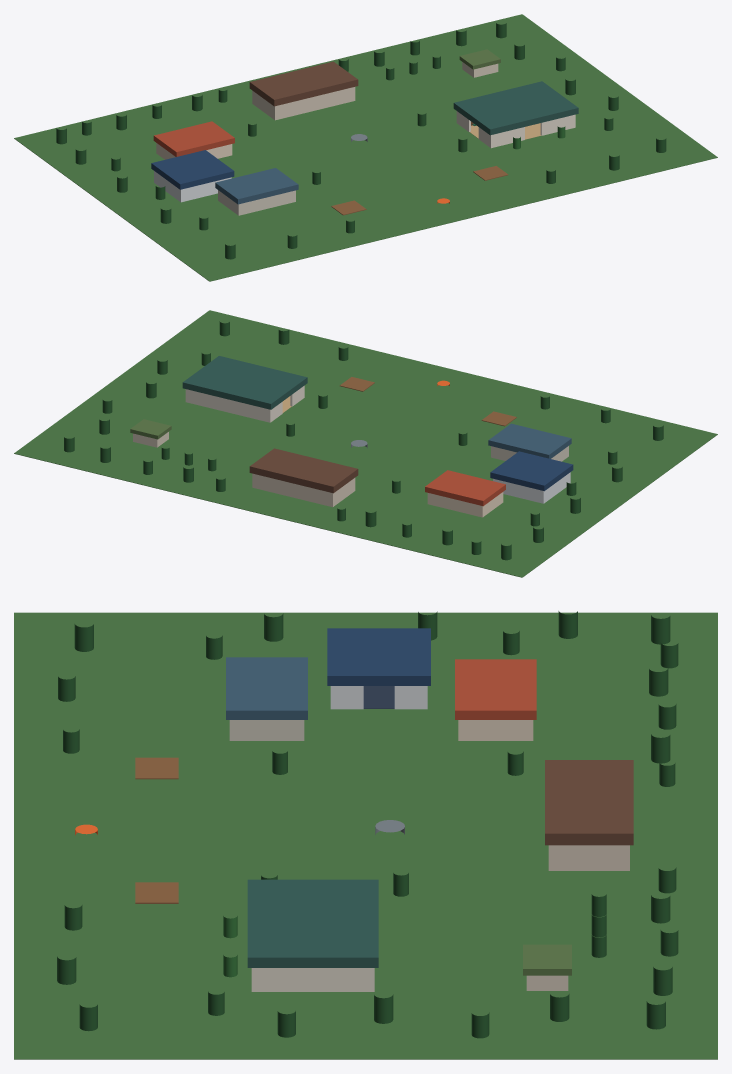
Rendered from world.glb.
3 views of the same model, one above another, from view 1: azimuth 30°, elevation 25°; view 2: azimuth 150°, elevation 25°; view 3: azimuth 270°, elevation 25° (orthographic). The views are drawn at different scales.
Parts seen in each view (by area): view 1: VillageGround_Visual, TNGOffice_Roof_Visual, AssemblyHall_Roof_Visual, TrafficGameCenter_Roof_Visual, ToolWorkshop_Roof_Visual, CoopBakery_Roof_Visual, AssemblyHall_Visual, ToolWorkshop_Visual, GardenShed_Roof_Visual, TrafficGameCenter_WallSouth_Visual, TNGOffice_WallSouthEast_Visual, TNGOffice_WallSouthWest_Visual; view 2: VillageGround_Visual, TNGOffice_Roof_Visual, AssemblyHall_Roof_Visual, TrafficGameCenter_Roof_Visual, ToolWorkshop_Roof_Visual, CoopBakery_Roof_Visual, AssemblyHall_Visual, TNGOffice_WallNorth_Visual, CoopBakery_Visual, TrafficGameCenter_WallNorth_Visual, GardenShed_Roof_Visual; view 3: VillageGround_Visual, TNGOffice_Roof_Visual, AssemblyHall_Roof_Visual, TrafficGameCenter_Roof_Visual, ToolWorkshop_Roof_Visual, CoopBakery_Roof_Visual, TNGOffice_WallEast_Visual, AssemblyHall_Visual, CoopBakery_Visual, ToolWorkshop_Visual, GardenShed_Roof_Visual, bridgeWest_Visual (+3 smaller).
Boxes of the visible parts, x1,y1,x2,y2 form: VillageGround_Visual: (14,14,717,281); TNGOffice_Roof_Visual: (453,81,578,135); AssemblyHall_Roof_Visual: (249,61,358,106); TrafficGameCenter_Roof_Visual: (151,150,234,189); ToolWorkshop_Roof_Visual: (215,168,298,204); CoopBakery_Roof_Visual: (153,121,234,156); AssemblyHall_Visual: (252,87,355,120); ToolWorkshop_Visual: (218,190,295,215); GardenShed_Roof_Visual: (459,49,500,69); TrafficGameCenter_WallSouth_Visual: (179,177,231,202); TNGOffice_WallSouthEast_Visual: (540,114,575,135); TNGOffice_WallSouthWest_Visual: (489,127,524,148); VillageGround_Visual: (14,310,717,577); TNGOffice_Roof_Visual: (182,356,307,409); AssemblyHall_Roof_Visual: (249,448,358,493); TrafficGameCenter_Roof_Visual: (490,451,573,491); ToolWorkshop_Roof_Visual: (488,423,571,458); CoopBakery_Roof_Visual: (425,470,505,506); AssemblyHall_Visual: (252,473,355,507); TNGOffice_WallNorth_Visual: (185,389,271,422); CoopBakery_Visual: (427,492,503,517); TrafficGameCenter_WallNorth_Visual: (493,478,544,503); GardenShed_Roof_Visual: (130,419,171,439); VillageGround_Visual: (14,612,717,1059); TNGOffice_Roof_Visual: (247,879,378,967); AssemblyHall_Roof_Visual: (545,760,633,845); TrafficGameCenter_Roof_Visual: (327,628,430,685); ToolWorkshop_Roof_Visual: (226,657,307,719); CoopBakery_Roof_Visual: (455,659,536,719); TNGOffice_WallEast_Visual: (256,968,370,991); AssemblyHall_Visual: (548,845,629,870); CoopBakery_Visual: (458,720,533,740); ToolWorkshop_Visual: (229,720,304,740); GardenShed_Roof_Visual: (523,944,571,975); bridgeWest_Visual: (135,757,178,779).
Size of the model in its own units: 96 by 3.98 by 64.
